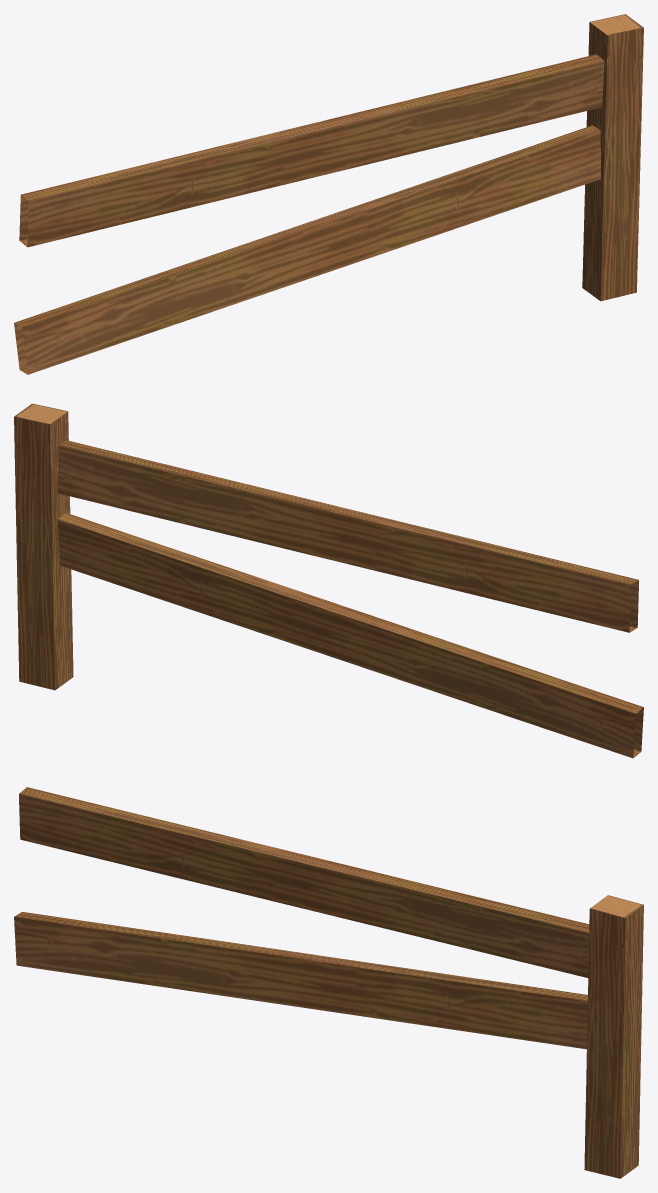
The model's file is Prop_WoodenFence_Extension1.gltf.
3 renders of one model, top to bottom at view 1: azimuth 30°, elevation 25°; view 2: azimuth 150°, elevation 25°; view 3: azimuth 330°, elevation 25°, orthographic.
Visible parts, largest first — view 1: Prop_WoodenFence_Extension1; view 2: Prop_WoodenFence_Extension1; view 3: Prop_WoodenFence_Extension1.
Part boxes in pixels (left/top/right/bottom): Prop_WoodenFence_Extension1: left=14, top=14, right=643, bottom=374; Prop_WoodenFence_Extension1: left=14, top=403, right=643, bottom=758; Prop_WoodenFence_Extension1: left=14, top=787, right=643, bottom=1178.
Size of the model in its own units: 2.05 by 0.8381 by 0.1104.
Materials: 1 (1 with a texture image).
